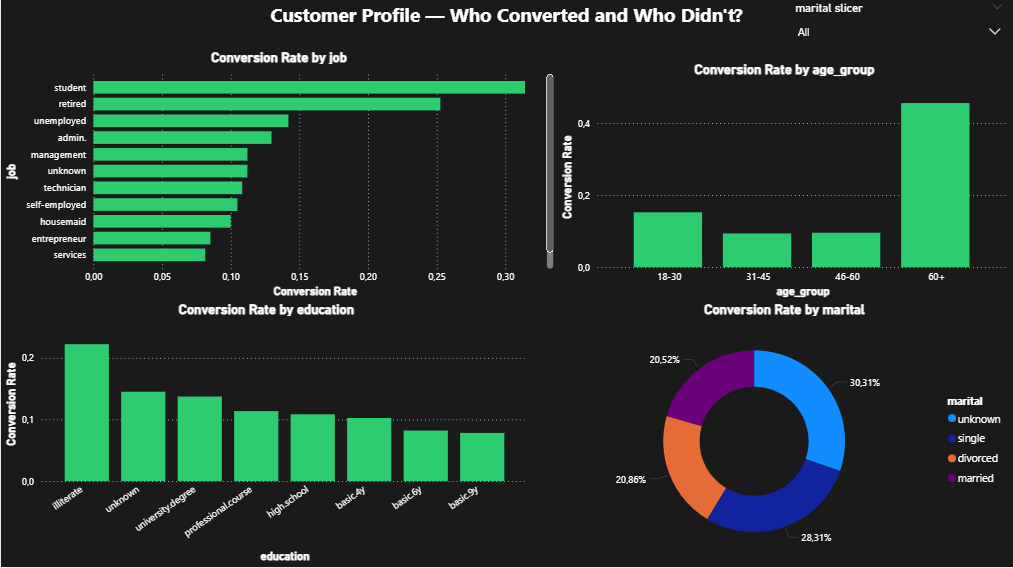

Layout of this report page (visuals, bound fields, positions):
{"tool":"powerbi","page":{"name":"Customer Profile","canvas":[1280,720],"ordinal":1},"visuals":[{"type":"textbox","box":[0,0,1280,64],"z":0},{"type":"clusteredBarChart","fields":{"Category":["bank_telemarketing_cleaned.job"],"Y":["bank_telemarketing_cleaned.Conversion Rate"]},"box":[0,64,704,320],"z":1000},{"type":"clusteredColumnChart","fields":{"Category":["bank_telemarketing_cleaned.education"],"Y":["bank_telemarketing_cleaned.Conversion Rate"]},"box":[0,384,672,336],"z":2000},{"type":"clusteredColumnChart","fields":{"Y":["bank_telemarketing_cleaned.Conversion Rate"],"Category":["bank_telemarketing_cleaned.age_group"]},"box":[704,80,576,304],"z":3000},{"type":"donutChart","fields":{"Y":["bank_telemarketing_cleaned.Conversion Rate"],"Category":["bank_telemarketing_cleaned.marital"]},"box":[704,384,576,336],"z":4000},{"type":"slicer","fields":{"Values":["bank_telemarketing_cleaned.marital"]},"box":[992,0,288,64],"z":5000}]}

Visuals, with their boxes in screenshot pixels (x1, y1, x2, y2), scaled from the page's 1280x720 canvas onto the 1013x568 screenshot:
textbox: detection(0, 0, 1012, 50)
clusteredBarChart - bank_telemarketing_cleaned.job x bank_telemarketing_cleaned.Conversion Rate: detection(0, 50, 557, 303)
clusteredColumnChart - bank_telemarketing_cleaned.education x bank_telemarketing_cleaned.Conversion Rate: detection(0, 303, 532, 567)
clusteredColumnChart - bank_telemarketing_cleaned.Conversion Rate x bank_telemarketing_cleaned.age_group: detection(557, 63, 1012, 303)
donutChart - bank_telemarketing_cleaned.Conversion Rate x bank_telemarketing_cleaned.marital: detection(557, 303, 1012, 567)
slicer - bank_telemarketing_cleaned.marital: detection(785, 0, 1012, 50)
